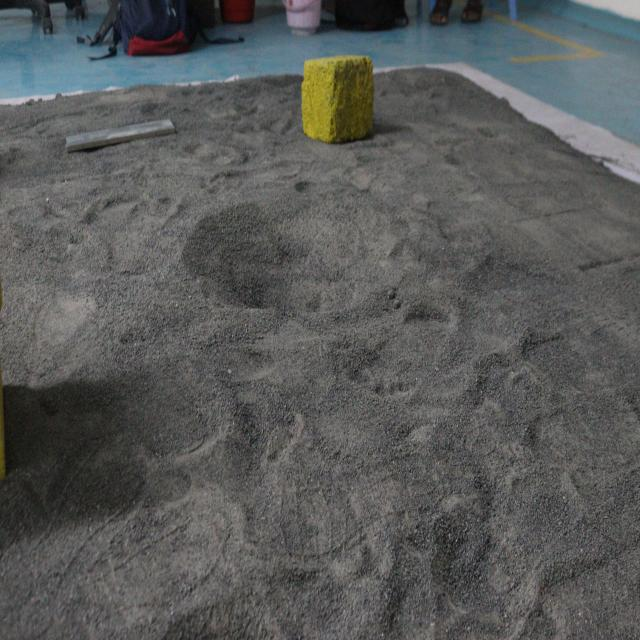box: (297, 55, 383, 147)
crater: (176, 178, 418, 341)
